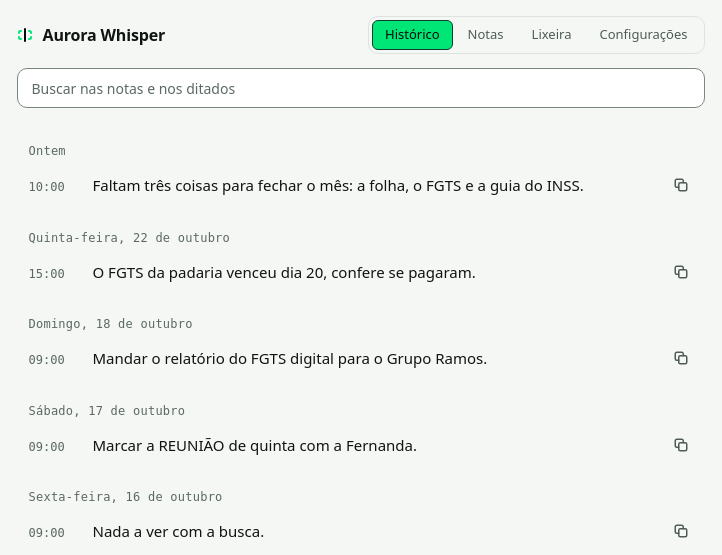
os dois grupos › o termo só no título: a linha é o começo do corpo
The width and height of the screenshot is (722, 555).
Type "fechamento" into the search field labelled "Buscar nas notas e nos ditados" at (360, 88), box [16,68,704,108]
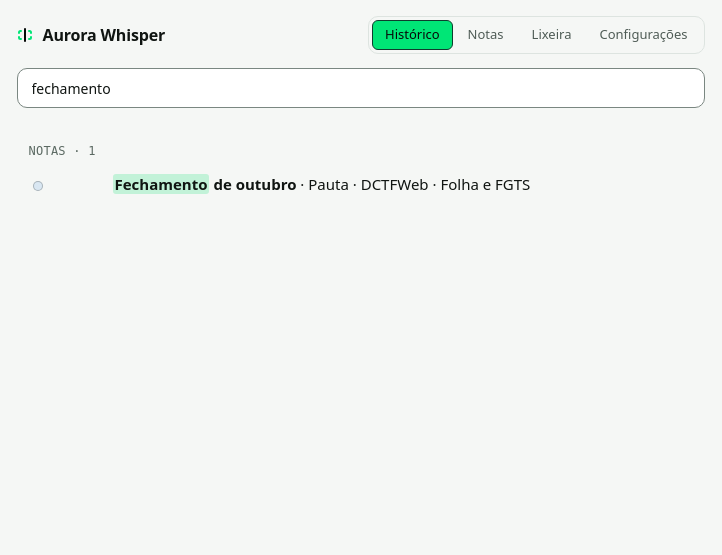
Expected: the heading "Notas · 1" is shown, [28,144,96,158]
Expected: the button "Fechamento de outubro · Pauta · DCTFWeb · Folha e FGTS" is shown, [16,164,704,204]
